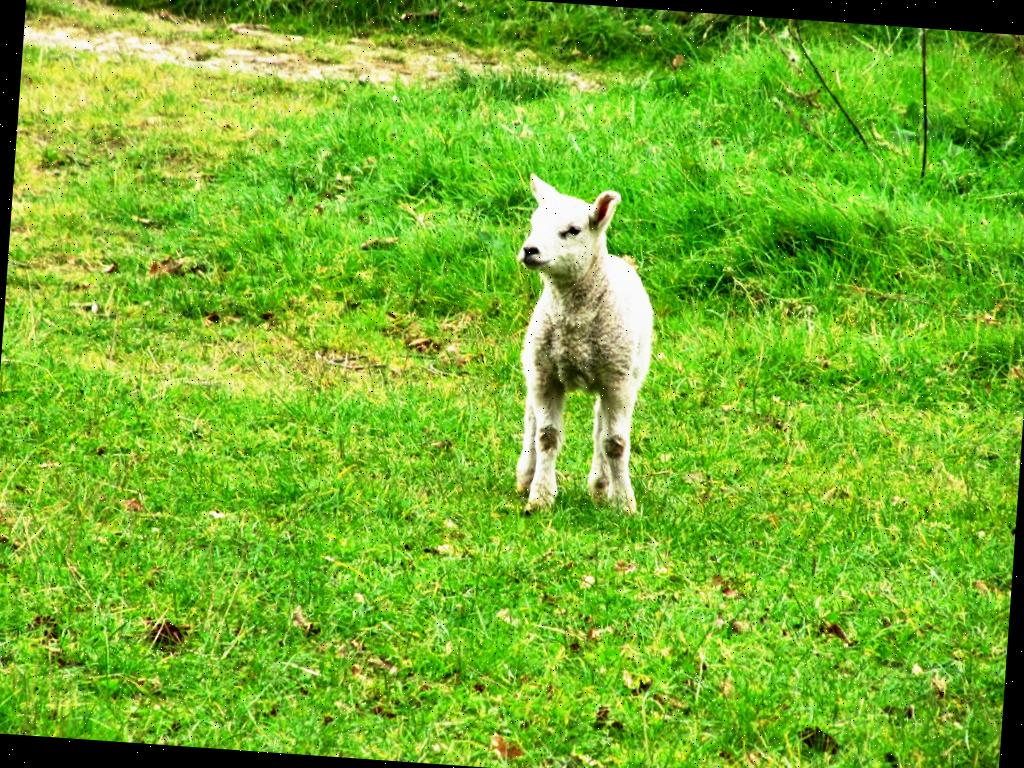Sheep: (496, 171, 664, 521)
